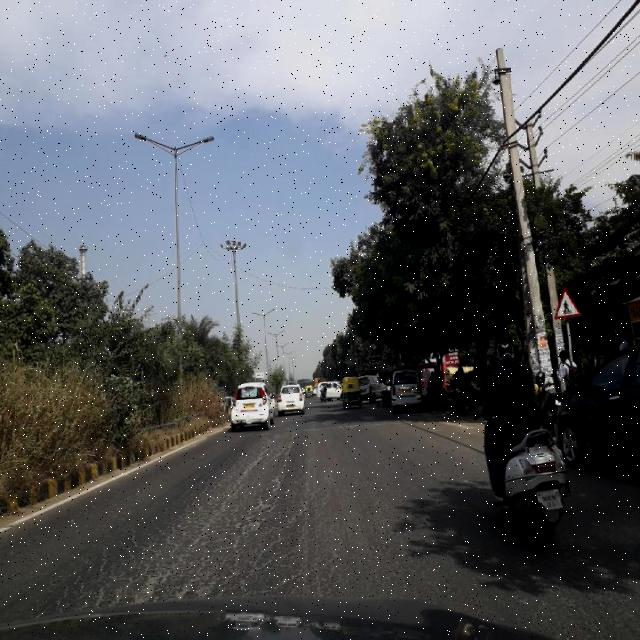D20: (36, 522, 324, 604), (182, 445, 324, 523)
